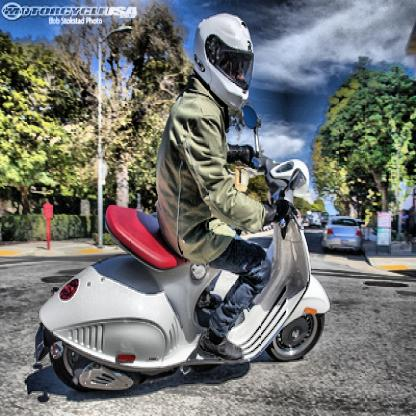wear: (196, 13, 254, 109)
